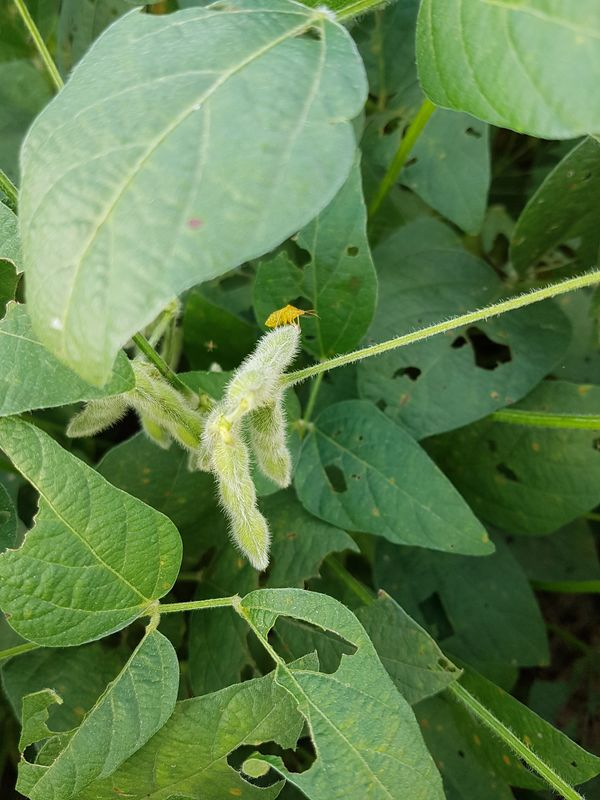Euschistus_heros_ninfa: (256, 293, 321, 342)
